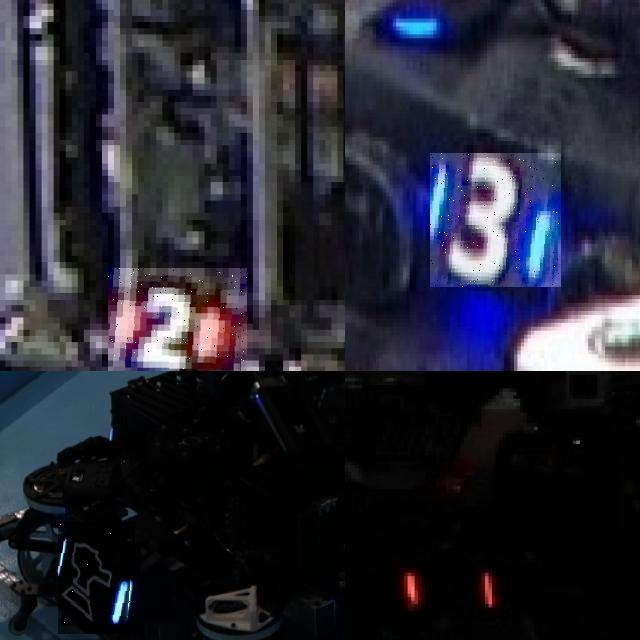B3: (430, 153, 561, 287)
Bs: (58, 522, 135, 634)
R2: (108, 268, 247, 371)
